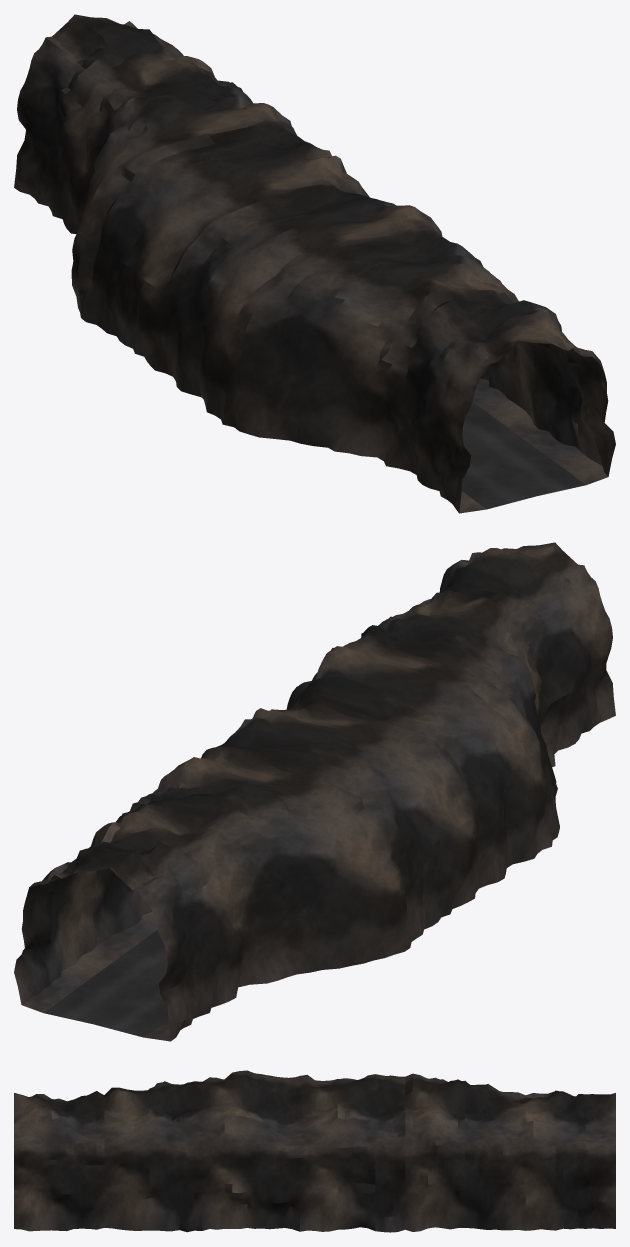
The model's file is TunnelPassingBay.fbx.
The picture shows the model from 3 angles, top to bottom: view 1: azimuth 30°, elevation 25°; view 2: azimuth 150°, elevation 25°; view 3: azimuth 270°, elevation 25°; orthographic projection. The views are drawn at different scales.
Visible parts, largest first — view 1: TunnelPassingBay; view 2: TunnelPassingBay; view 3: TunnelPassingBay.
Boxes of the visible parts, <box> form: TunnelPassingBay: <box>14,14,615,513</box>; TunnelPassingBay: <box>14,542,615,1041</box>; TunnelPassingBay: <box>14,1070,615,1232</box>.
Bounding box in the file's own units: 7.76 × 4.85 × 24.
Materials: 2 (2 with a texture image).
